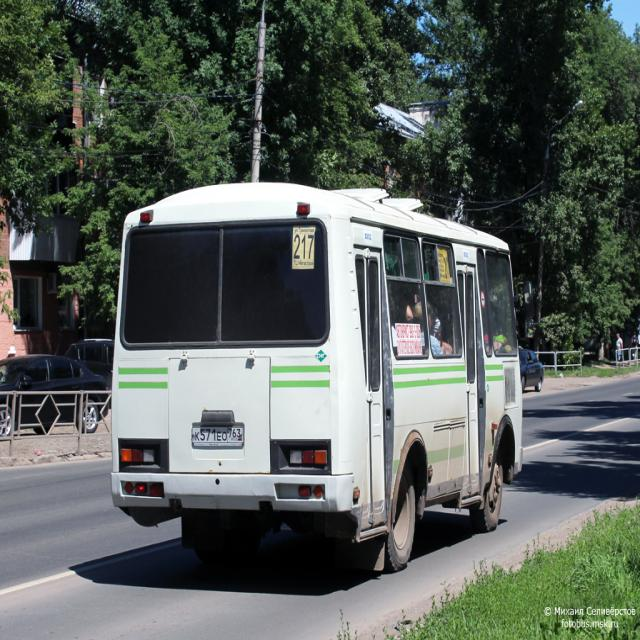number-of-bus: (294, 233, 316, 262)
